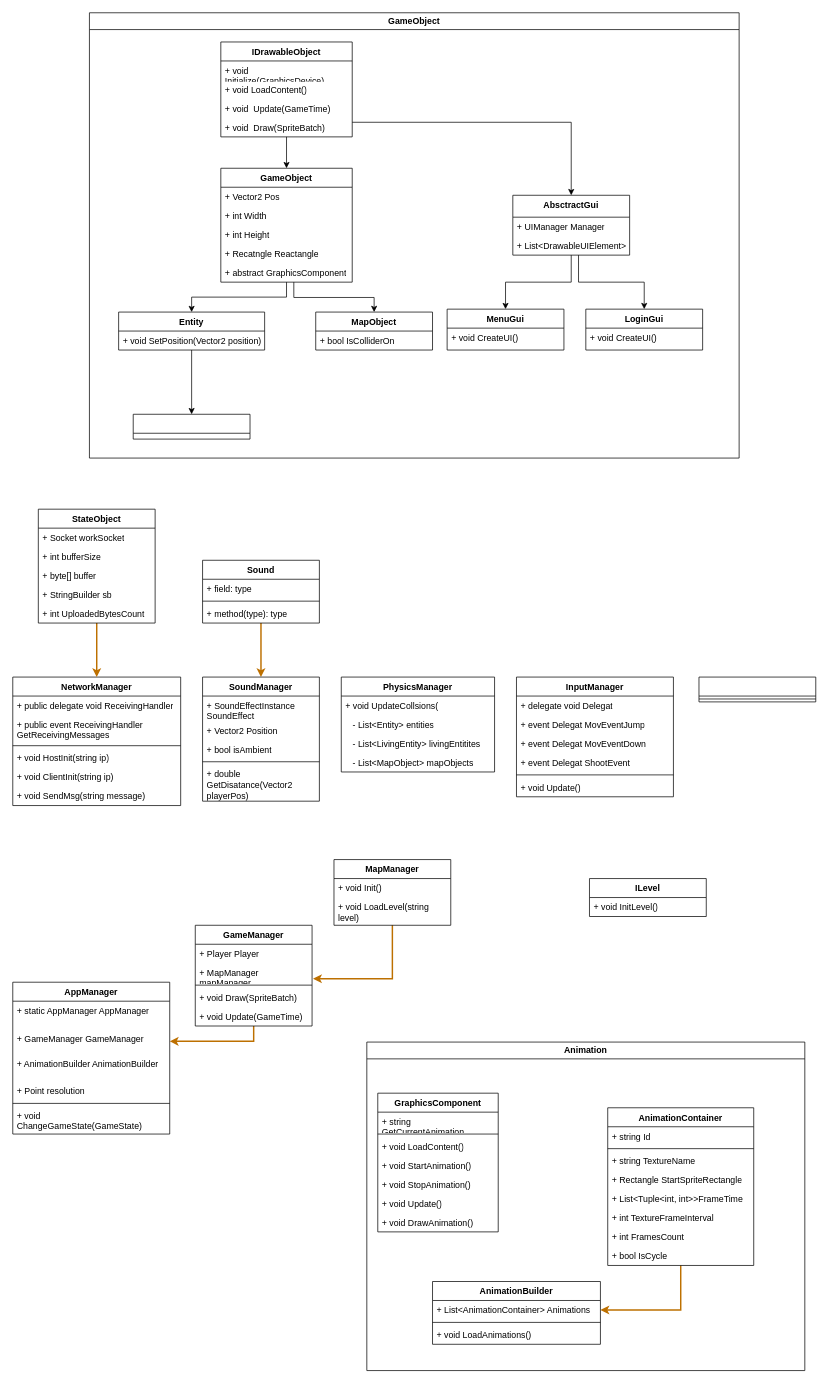
Some shapes in this 829 by 1383 pixel diagram are drawn without their labels. Here are the shapes that lost their labels. From the top down, the centre of each, then its label:
At point (191, 426): "LivingEntity".
At point (757, 689): "SettingsManager".
